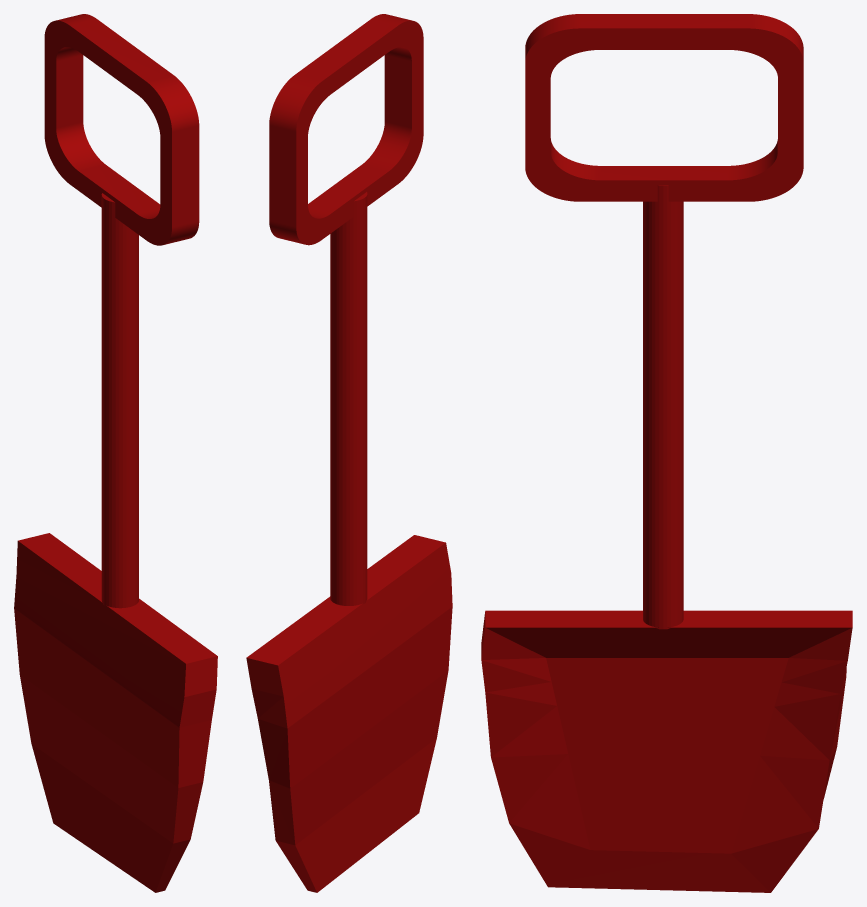
File: Pala.fbx
3 views of the same model, side by side, from view 1: azimuth 30°, elevation 25°; view 2: azimuth 150°, elevation 25°; view 3: azimuth 270°, elevation 25° (orthographic). The views are drawn at different scales.
Visible parts, largest first — view 1: Cube.006; view 2: Cube.006; view 3: Cube.006.
Boxes of the visible parts, x1,y1,x2,y2 form: Cube.006: [14, 14, 217, 892]; Cube.006: [246, 14, 452, 892]; Cube.006: [481, 14, 852, 892].
Size of the model in its own units: 0.9508 by 18.89 by 7.25.
1 material, 1 textured.
